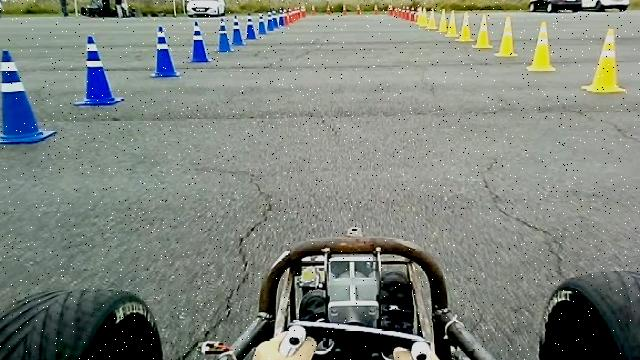blue cone: (0, 48, 56, 144), (73, 34, 125, 106), (150, 26, 180, 76), (185, 20, 213, 63), (214, 17, 234, 52), (230, 14, 246, 46)
yellow cone: (581, 28, 629, 92), (525, 21, 556, 71), (493, 16, 518, 56), (472, 13, 492, 48), (455, 10, 475, 40)
